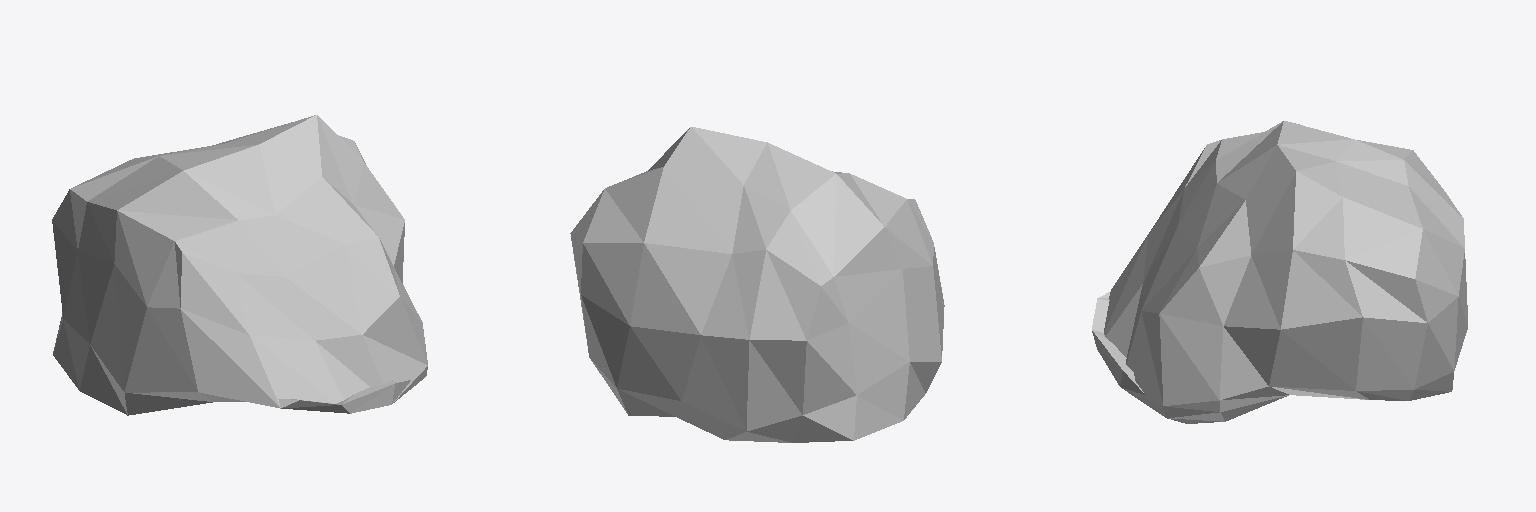
Rendered from Rock_A_02_LOD2.obj.
3 renders of one model, left to right at view 1: azimuth 30°, elevation 25°; view 2: azimuth 150°, elevation 25°; view 3: azimuth 270°, elevation 25°, orthographic.
Parts seen in each view (by area): view 1: Rock_A_02_LOD2_Cube.549; view 2: Rock_A_02_LOD2_Cube.549; view 3: Rock_A_02_LOD2_Cube.549.
Boxes of the visible parts, <box> form: Rock_A_02_LOD2_Cube.549: <box>52,115,427,415</box>; Rock_A_02_LOD2_Cube.549: <box>570,127,944,442</box>; Rock_A_02_LOD2_Cube.549: <box>1092,121,1467,423</box>.
Bounding box in the file's own units: 3.48 × 2.52 × 3.63.